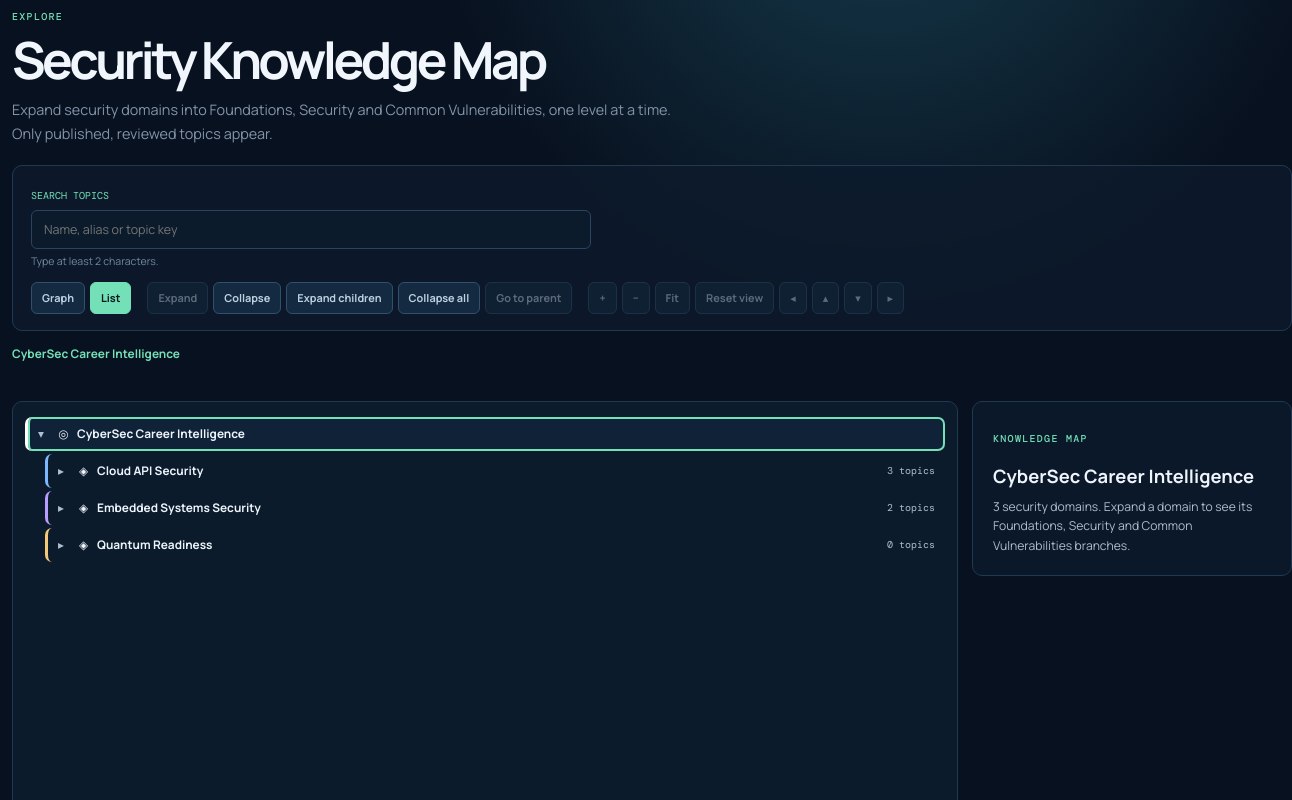
it: Security Knowledge Map page › selecting a topic opens the details panel and the breadcrumb
The width and height of the screenshot is (1292, 800).
Press ArrowRight in the list item "▸ ◈ Cloud API Security 3 topics", box [25,454,945,488]
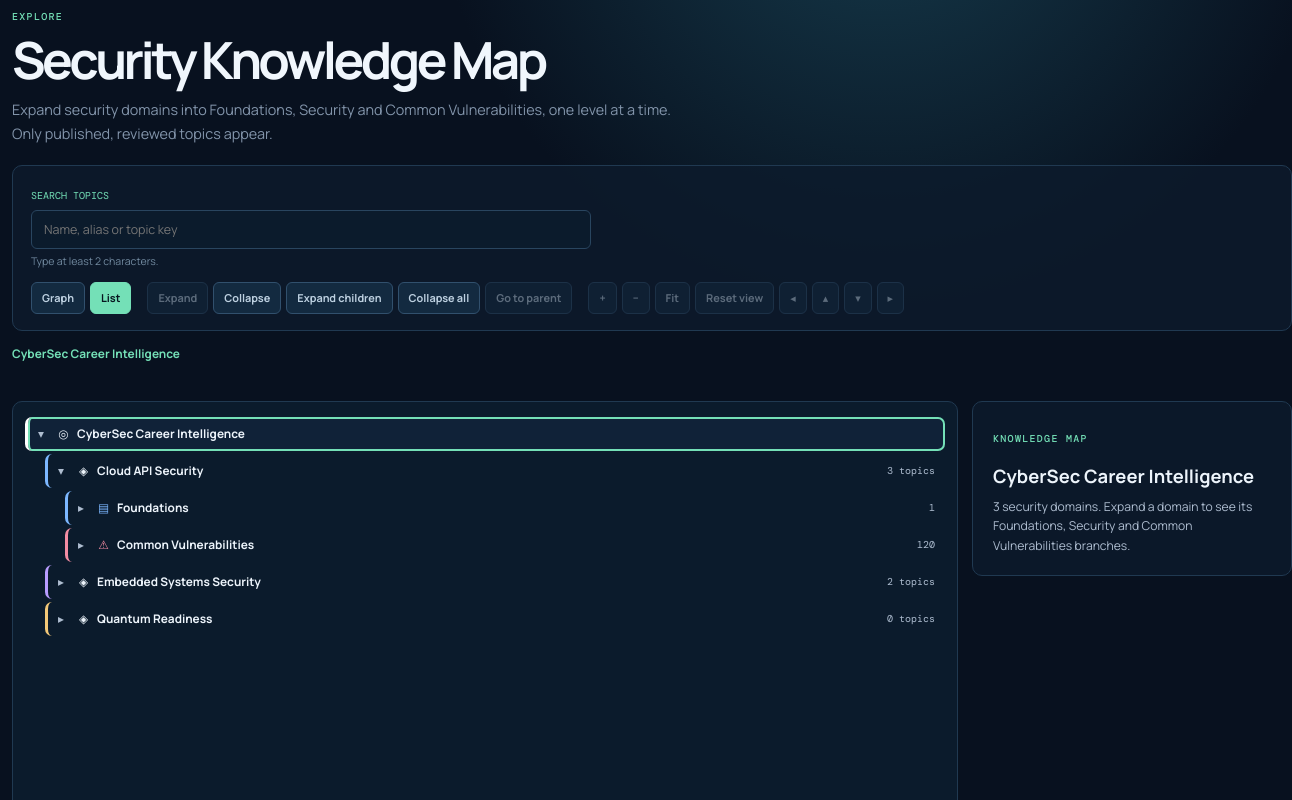
Press ArrowRight in the list item "▸ ▤ Foundations 1", box [25,491,945,525]
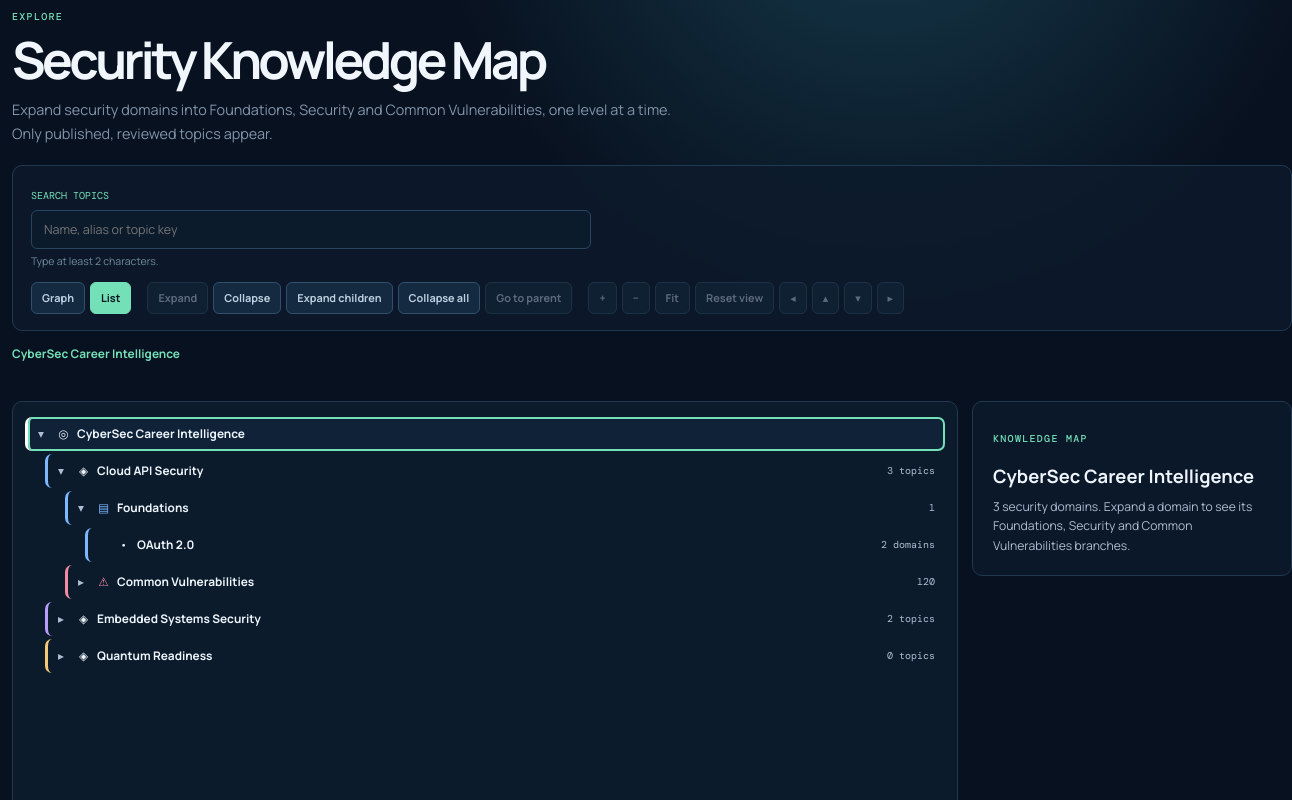
Press Enter in the list item "• OAuth 2.0 2 domains", box [25,528,945,562]
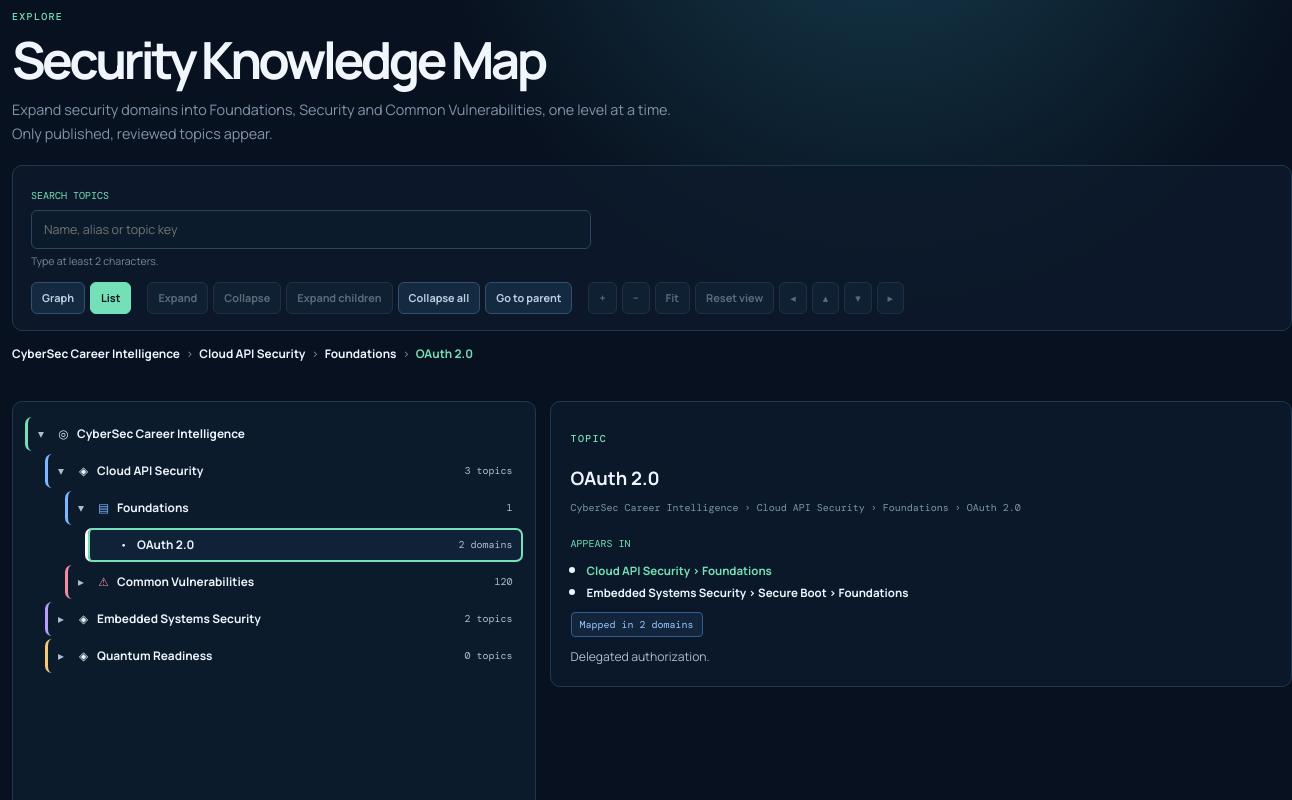
Now the heading "OAuth 2.0" is shown, box [571,465,660,491]
Now the text "Delegated authorization." is shown, box [571,648,710,665]
Now the button "Embedded Systems Security › Secure Boot › Foundations" is shown, box [587,585,908,600]
Click the button "Cloud API Security": coordinates (252, 353) [199,345,306,362]
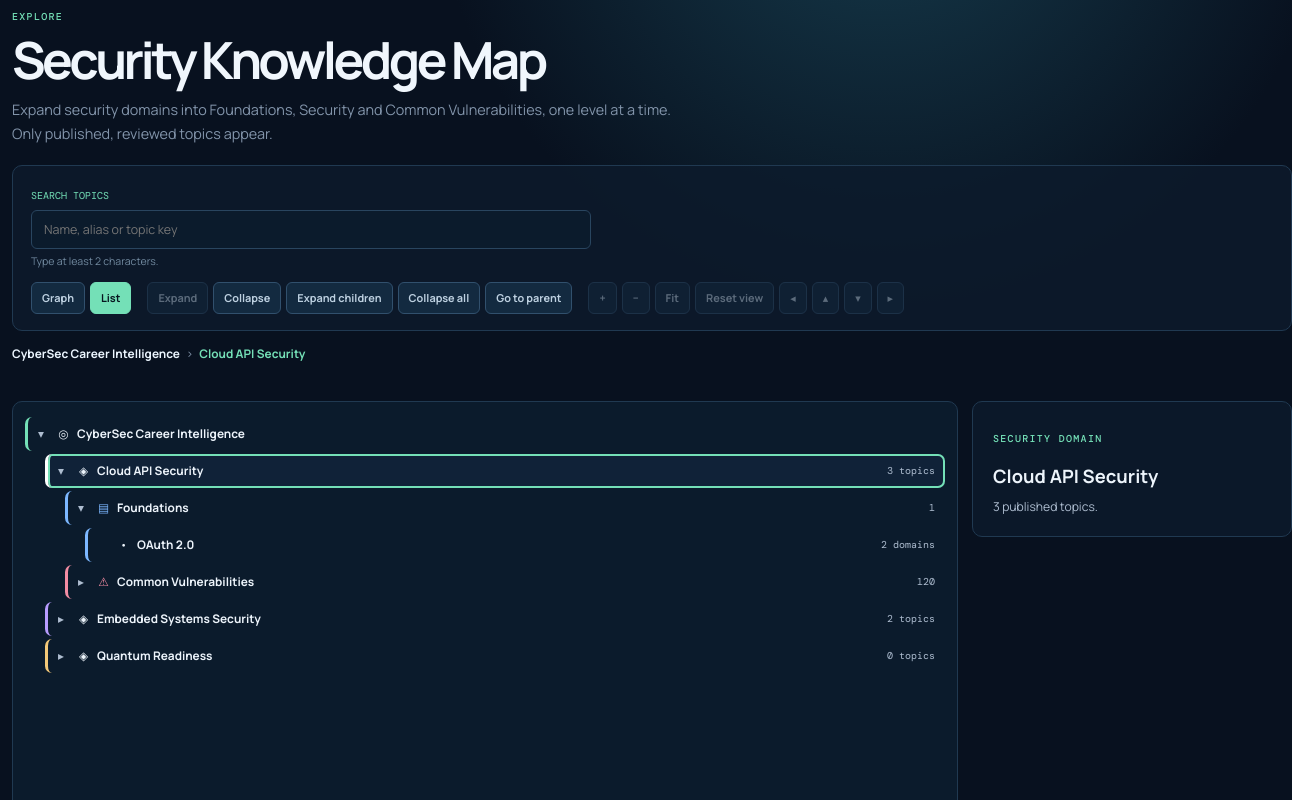
Now the heading "Cloud API Security" is shown, box [993,463,1158,489]
